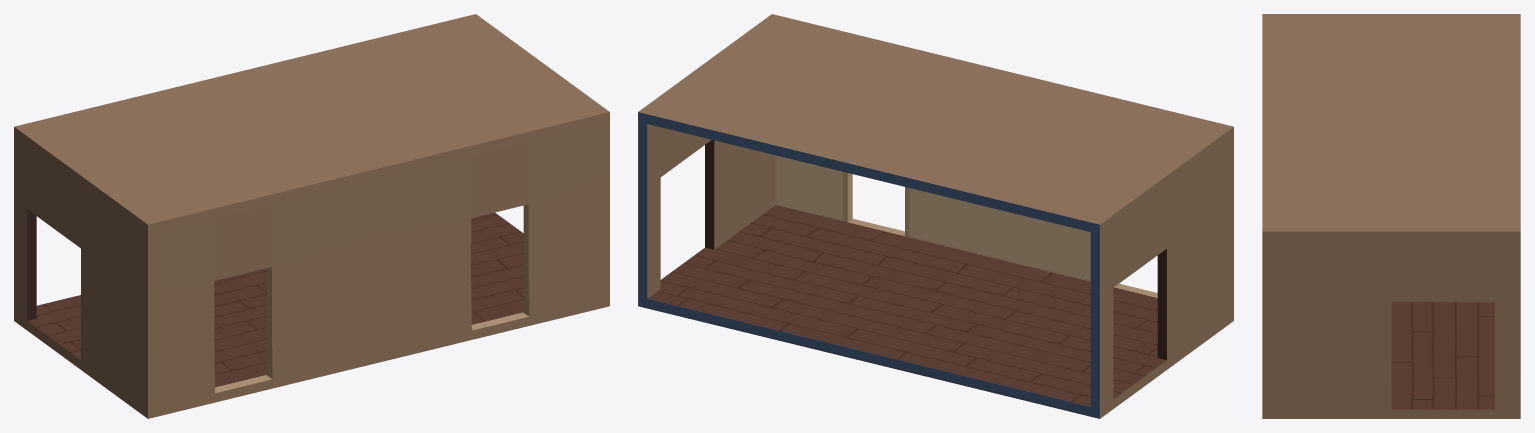
File: Hallway2UP_2Doors.fbx
3 views of the same model, side by side, from view 1: azimuth 30°, elevation 25°; view 2: azimuth 150°, elevation 25°; view 3: azimuth 270°, elevation 25° (orthographic). The views are drawn at different scales.
Visible parts, largest first — view 1: up2door; view 2: up2door; view 3: up2door.
Part boxes in pixels (bbox=[...]): up2door: bbox=[14, 14, 609, 418]; up2door: bbox=[638, 14, 1233, 418]; up2door: bbox=[1262, 14, 1520, 418].
Bounding box in the file's own units: 996 × 400 × 500.
